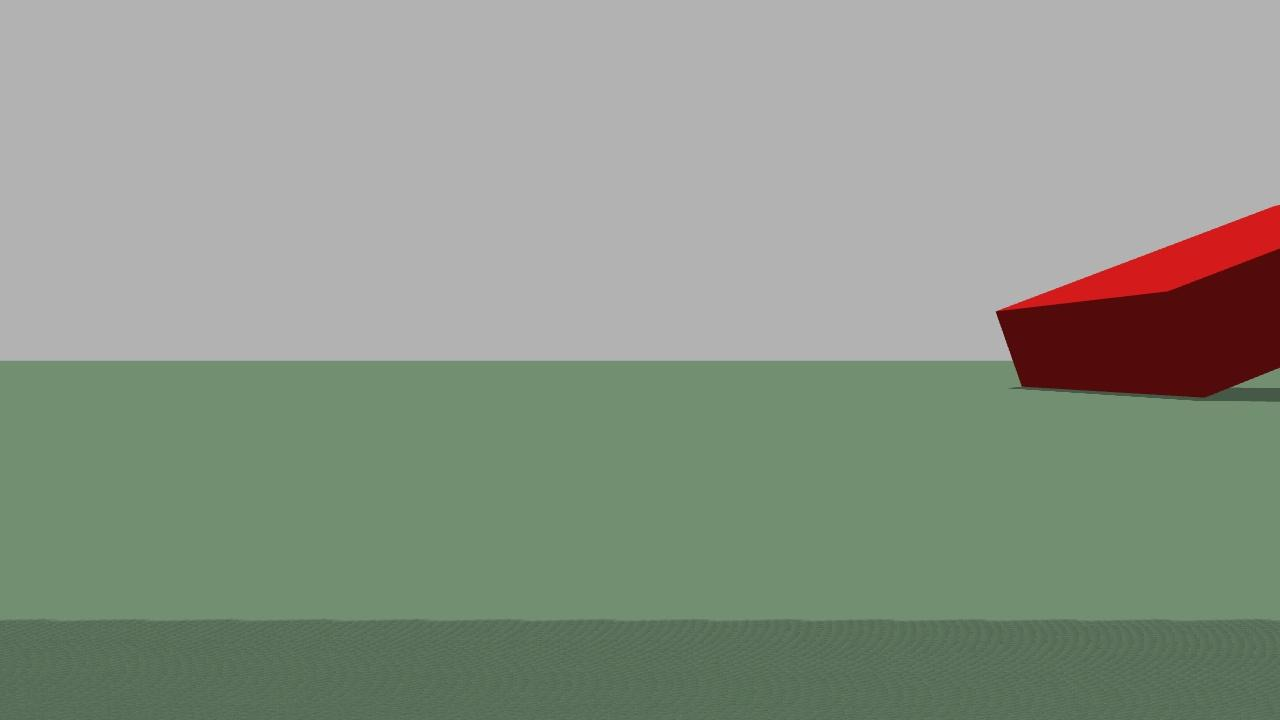ground_vehicle: (963, 193, 1280, 436)
